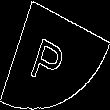P_NE: (34, 24, 76, 86)
